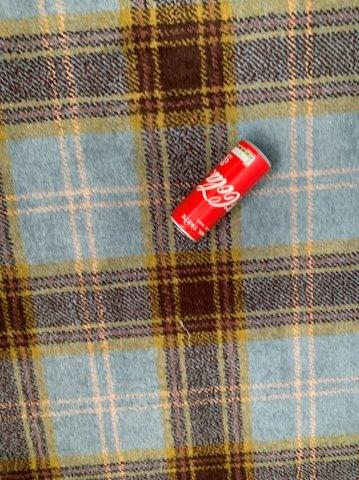kaleng: (172, 141, 271, 242)
